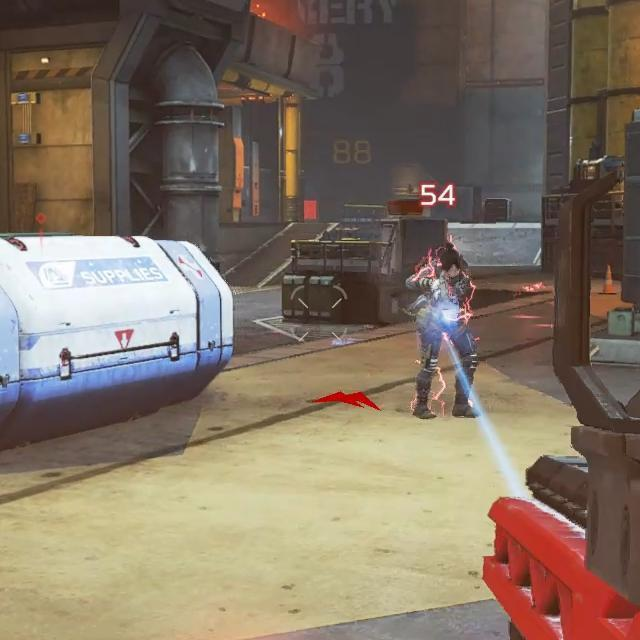avatar: (412, 240, 479, 420)
